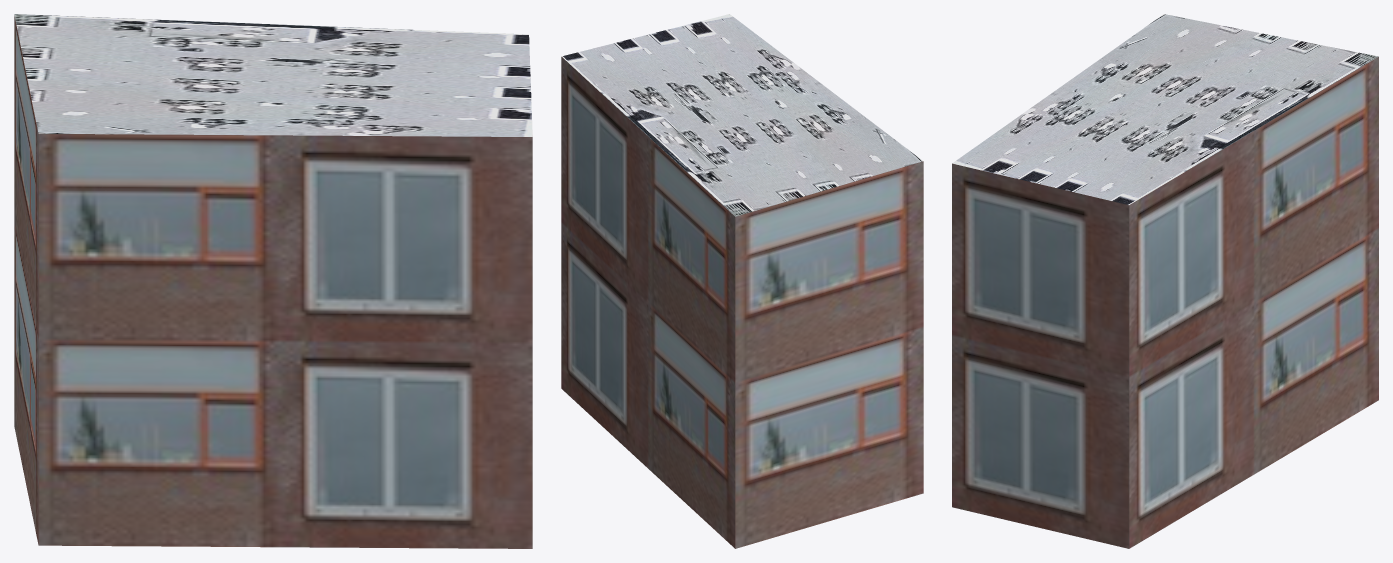
File: ResTex__1907.fbx
3 renders of one model, left to right at view 1: azimuth 30°, elevation 25°; view 2: azimuth 150°, elevation 25°; view 3: azimuth 270°, elevation 25°, orthographic. The views are drawn at different scales.
Parts seen in each view (by area): view 1: CityEngineMaterial_19_m, CityEngineMaterial_15_m; view 2: CityEngineMaterial_19_m, CityEngineMaterial_15_m; view 3: CityEngineMaterial_19_m, CityEngineMaterial_15_m.
Boxes of the visible parts, bbox=[...] form: CityEngineMaterial_19_m: bbox=[14, 15, 532, 548]; CityEngineMaterial_15_m: bbox=[14, 14, 532, 136]; CityEngineMaterial_19_m: bbox=[561, 57, 923, 548]; CityEngineMaterial_15_m: bbox=[561, 14, 922, 216]; CityEngineMaterial_19_m: bbox=[952, 56, 1378, 548]; CityEngineMaterial_15_m: bbox=[952, 14, 1378, 204].
Bounding box in the file's own units: 7.16 × 6 × 6.75.
Materials: 2 (2 with a texture image).
